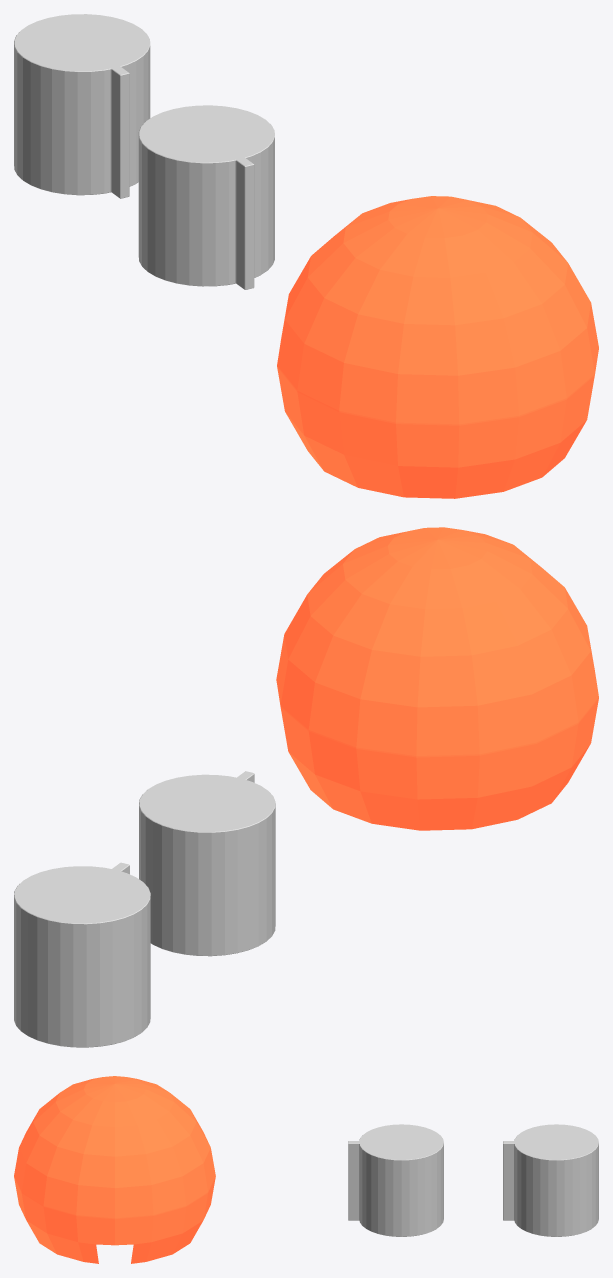
Rendered from simple-knobs.glb.
3 views of the same model, one above another, from view 1: azimuth 30°, elevation 25°; view 2: azimuth 150°, elevation 25°; view 3: azimuth 270°, elevation 25° (orthographic). The views are drawn at different scales.
Visible parts, largest first — view 1: lamp, knob-type-a, knob-type-b; view 2: lamp, knob-type-b, knob-type-a; view 3: lamp, knob-type-a, knob-type-b.
Part boxes in pixels (x1,y1,x2,y2): lamp: (277, 196, 598, 498); knob-type-a: (138, 105, 274, 289); knob-type-b: (14, 14, 150, 198); lamp: (276, 527, 598, 830); knob-type-b: (14, 862, 150, 1047); knob-type-a: (139, 771, 275, 956); lamp: (14, 1076, 215, 1263); knob-type-a: (348, 1124, 443, 1236); knob-type-b: (503, 1124, 598, 1236).
Size of what is drawn, in the model's own units: 0.1955 by 0.1564 by 0.5668.
